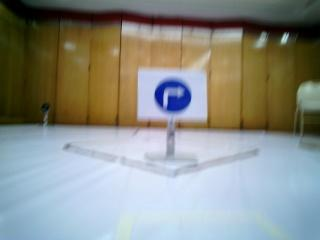right: (137, 71, 205, 117)
